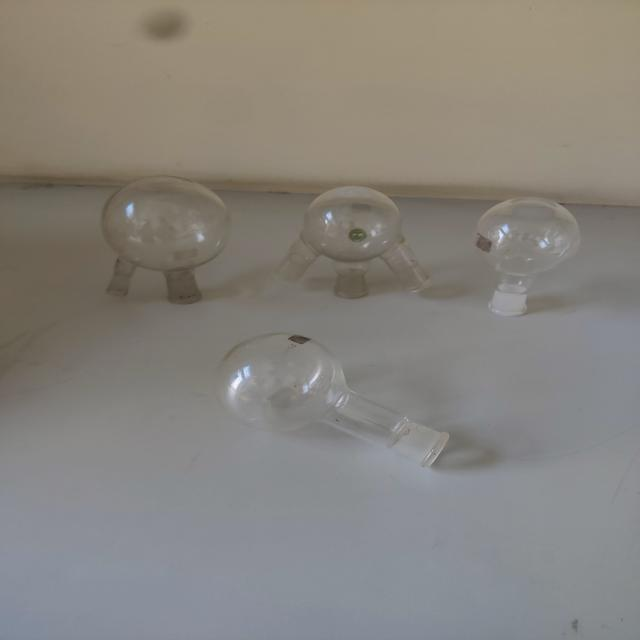Round_Bottom_Flask_Borosilicate_Glass_1_Neck: (197, 325, 476, 486), (461, 165, 599, 325)
Round_Bottom_Flask_Borosilicate_Glass_2_Neck: (78, 157, 245, 316)
Round_Bottom_Flask_Borosilicate_Glass_3_Neck: (256, 154, 446, 316)
